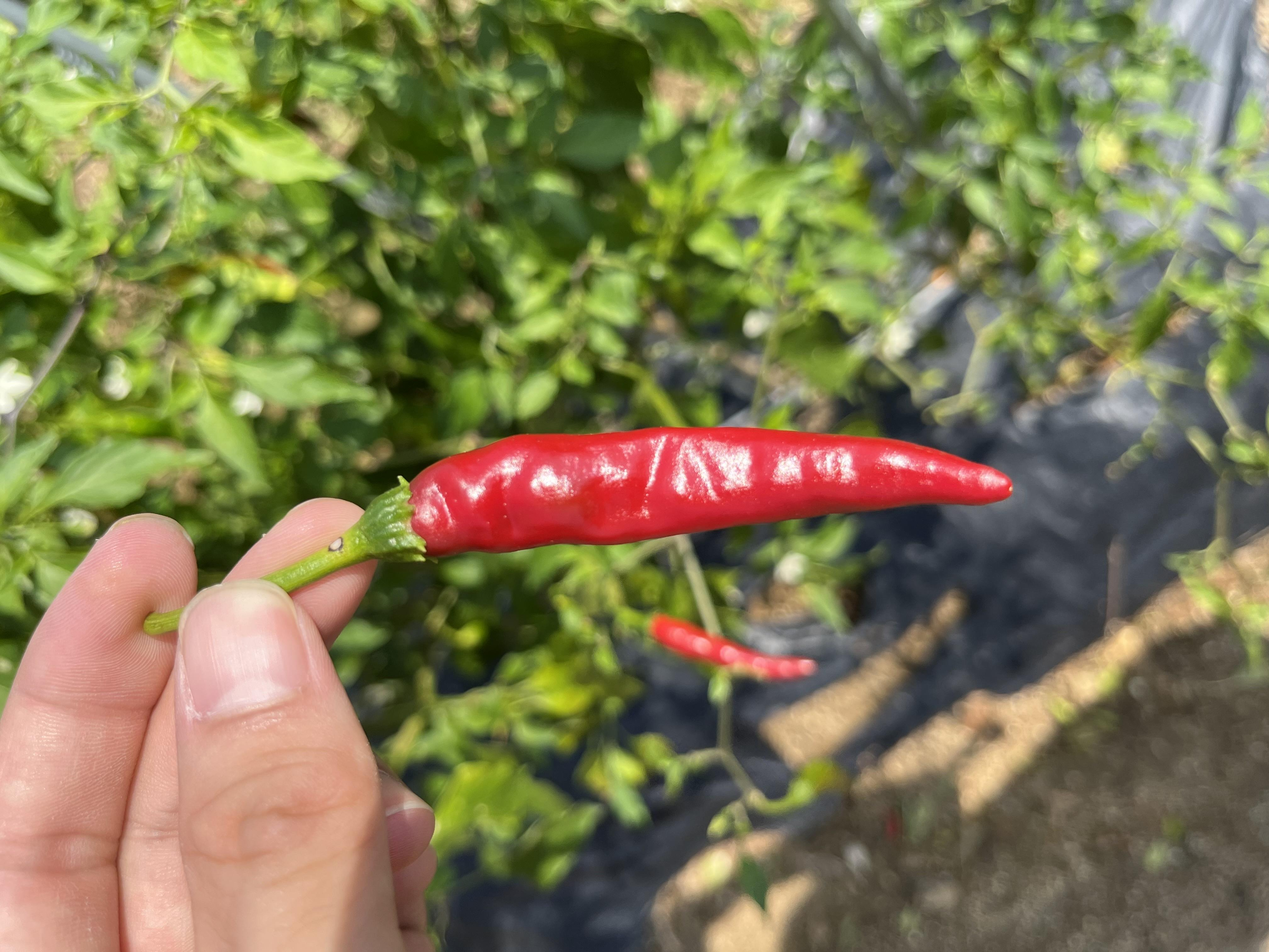Buah Cabai Sehat: (501, 267, 723, 777)
